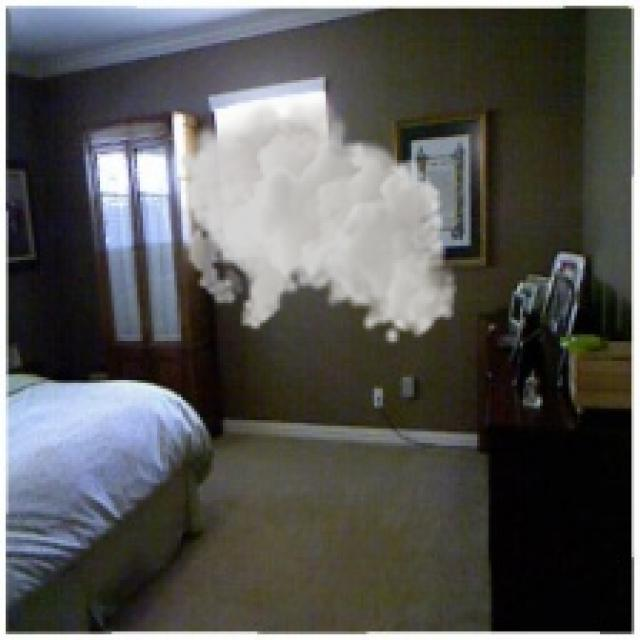Smoke: (177, 91, 457, 346)
